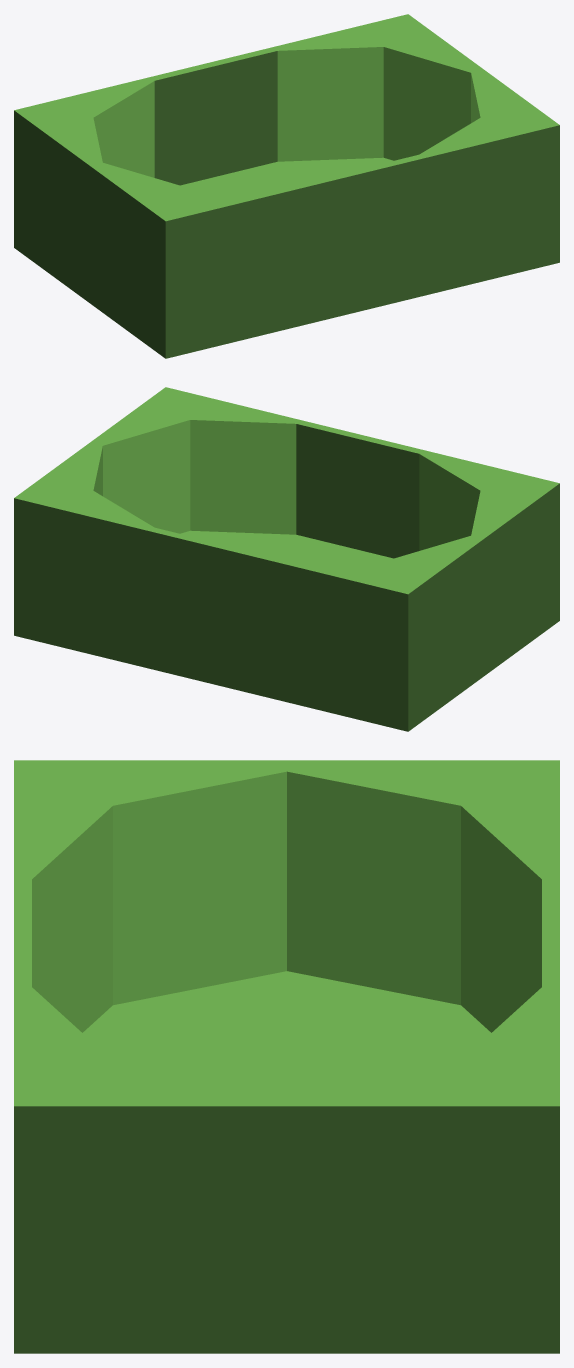
The model's file is IsometricTile_Light_Pool.fbx.
3 renders of one model, top to bottom at view 1: azimuth 30°, elevation 25°; view 2: azimuth 150°, elevation 25°; view 3: azimuth 270°, elevation 25°, orthographic. The views are drawn at different scales.
Parts seen in each view (by area): view 1: Cube.037; view 2: Cube.037; view 3: Cube.037.
Part boxes in pixels (left/top/right/bottom): Cube.037: left=14, top=14, right=559, bottom=358; Cube.037: left=14, top=387, right=559, bottom=731; Cube.037: left=14, top=760, right=559, bottom=1353.
Bounding box in the file's own units: 3 × 2 × 1.
